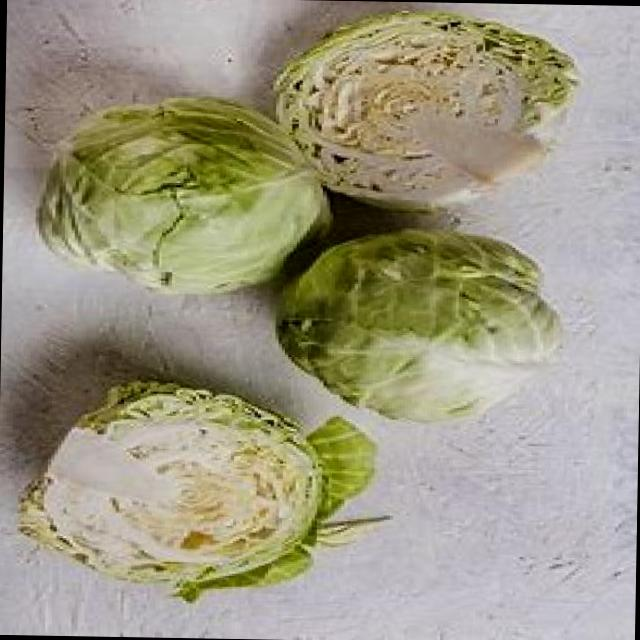cabbage: (21, 385, 363, 600), (40, 85, 326, 311), (278, 212, 574, 426), (280, 6, 580, 210)
